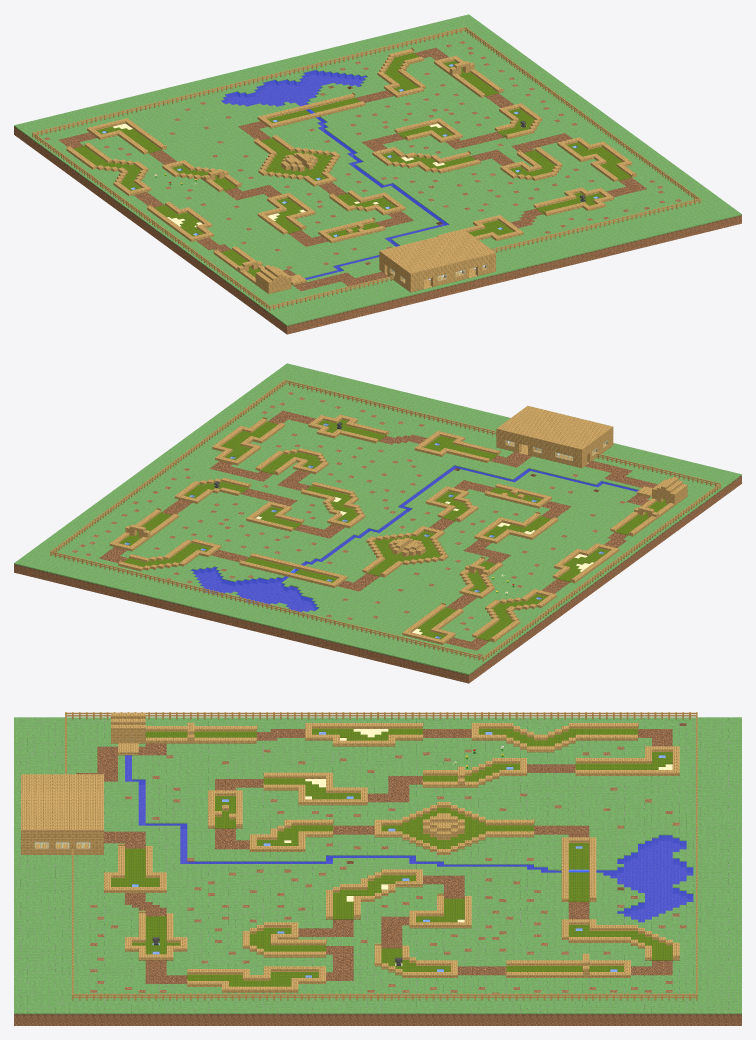
File: golf_course_without_trees.glb
The picture shows the model from 3 angles, top to bottom: view 1: azimuth 30°, elevation 25°; view 2: azimuth 150°, elevation 25°; view 3: azimuth 270°, elevation 25°; orthographic projection. The views are drawn at different scales.
Visible parts, largest first — view 1: Object_9, Object_17, Object_5, Object_3, Object_7, Object_16, Object_22, Object_6; view 2: Object_9, Object_17, Object_5, Object_3, Object_7, Object_16, Object_22, Object_6; view 3: Object_9, Object_17, Object_5, Object_3, Object_7, Object_22, Object_16, Object_6, Object_21.
Part boxes in pixels (box(x1,y1,x2,y2)): Object_9: box(14, 14, 741, 329); Object_17: box(66, 49, 636, 285); Object_5: box(14, 41, 741, 334); Object_3: box(73, 53, 631, 277); Object_7: box(32, 26, 700, 310); Object_16: box(379, 230, 495, 288); Object_22: box(221, 70, 448, 279); Object_6: box(203, 61, 495, 293); Object_9: box(14, 363, 741, 678); Object_17: box(109, 414, 687, 644); Object_5: box(14, 392, 741, 683); Object_3: box(119, 419, 667, 641); Object_7: box(50, 379, 720, 661); Object_16: box(496, 406, 613, 463); Object_22: box(191, 465, 638, 611); Object_6: box(125, 441, 687, 576); Object_9: box(14, 717, 741, 1019); Object_17: box(104, 713, 679, 992); Object_5: box(14, 723, 741, 1025); Object_3: box(111, 728, 672, 986); Object_7: box(65, 712, 697, 1000); Object_22: box(125, 755, 693, 922); Object_16: box(21, 774, 103, 848); Object_6: box(21, 719, 589, 977); Object_21: box(284, 729, 672, 965).
Bounding box in the file's own units: 5.61 × 0.3333 × 5.83.
17 materials, 17 textured.
